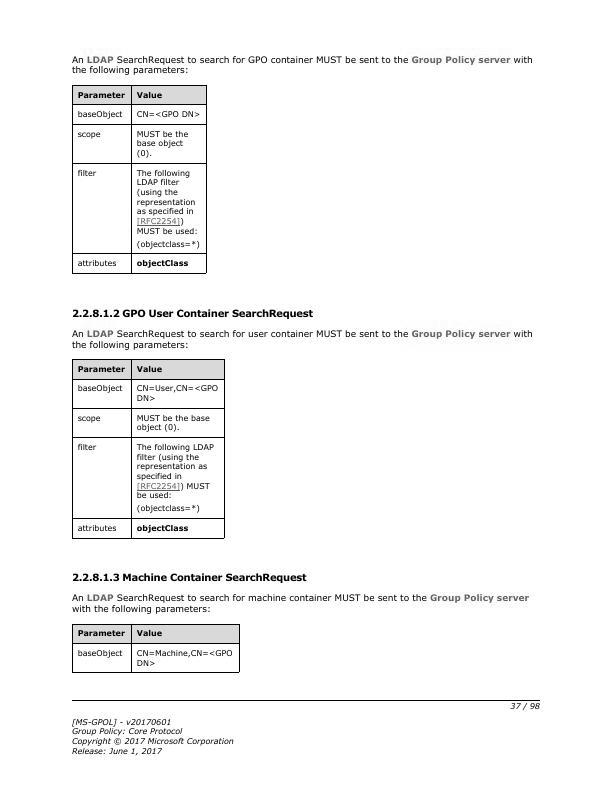table: (72, 359, 226, 539), (73, 84, 207, 275), (72, 623, 241, 675)
text: (67, 51, 536, 79), (68, 327, 535, 352), (71, 592, 530, 614), (68, 715, 236, 756), (71, 306, 316, 320), (69, 570, 311, 584)
